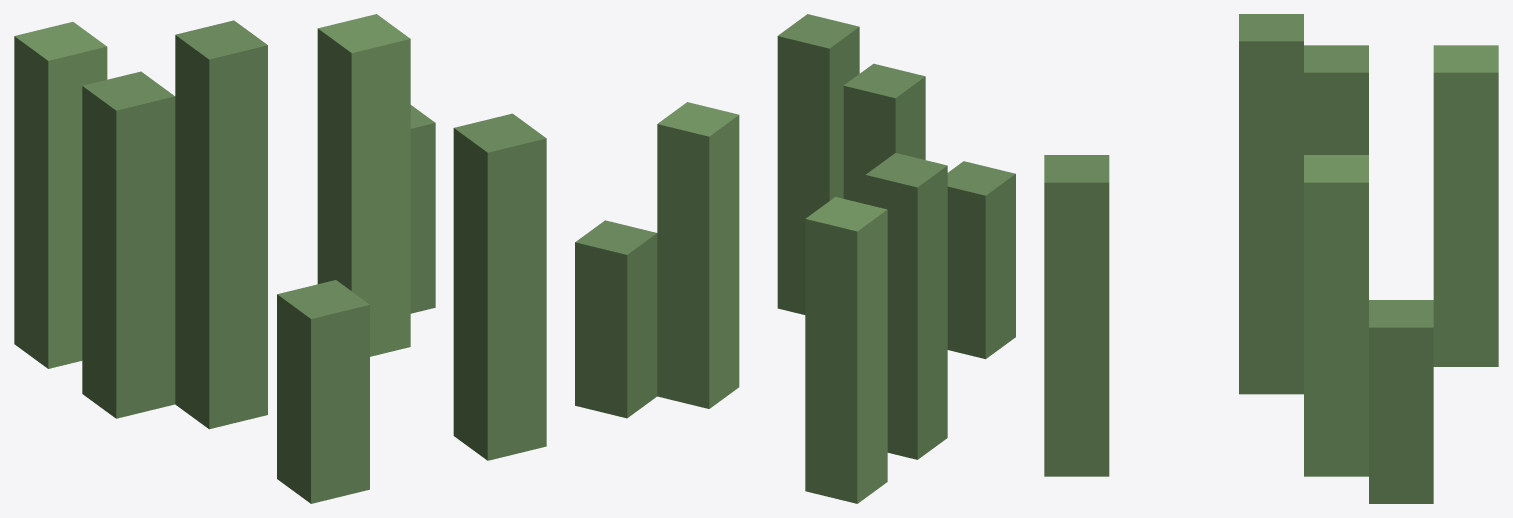
The model's file is ortiga_03.glb.
3 views of the same model, side by side, from view 1: azimuth 30°, elevation 25°; view 2: azimuth 150°, elevation 25°; view 3: azimuth 270°, elevation 25° (orthographic). The views are drawn at different scales.
Visible parts, largest first — view 1: ortiga_03; view 2: ortiga_03; view 3: ortiga_03.
Part boxes in pixels (left/top/right/bottom): ortiga_03: left=14, top=14, right=546, bottom=503; ortiga_03: left=575, top=14, right=1015, bottom=503; ortiga_03: left=1044, top=14, right=1498, bottom=503.
Size of the model in its own units: 0.6 by 0.6 by 0.7.
